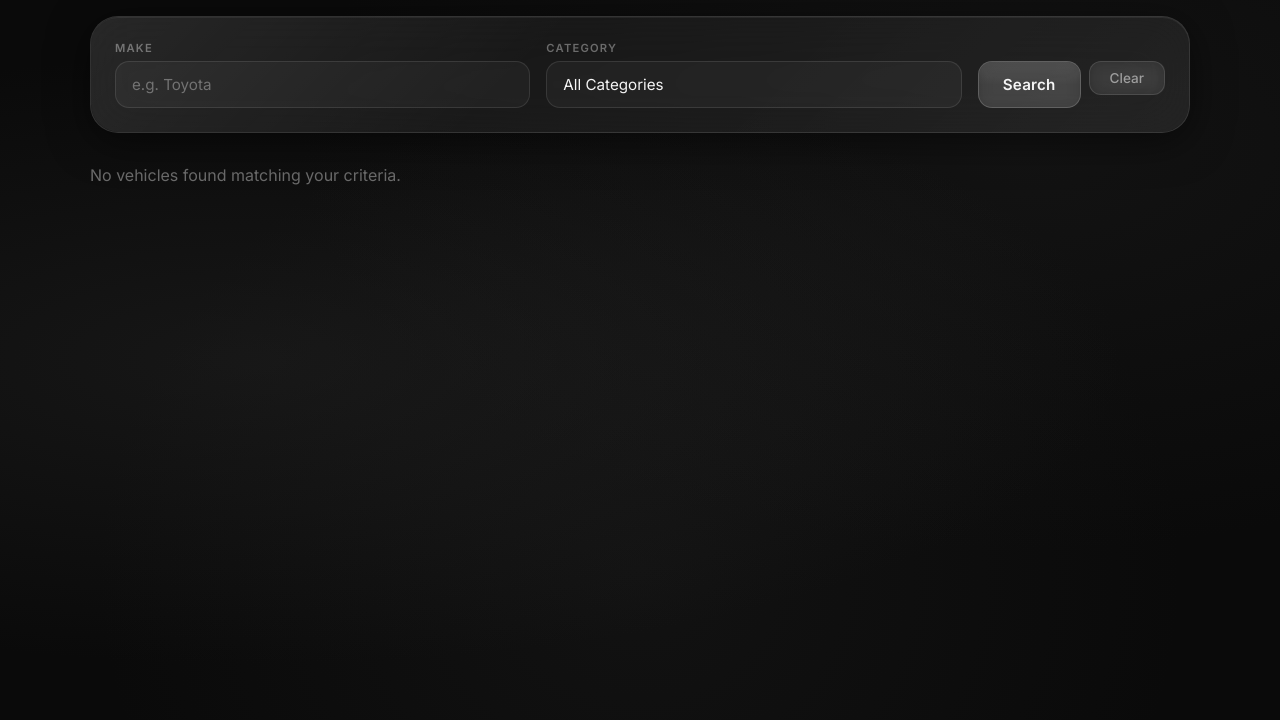
Scenario: DashboardPage › allows clearing the search filters
In the field labelled "Make": (323, 85) [115,61,530,108], type "Ford"
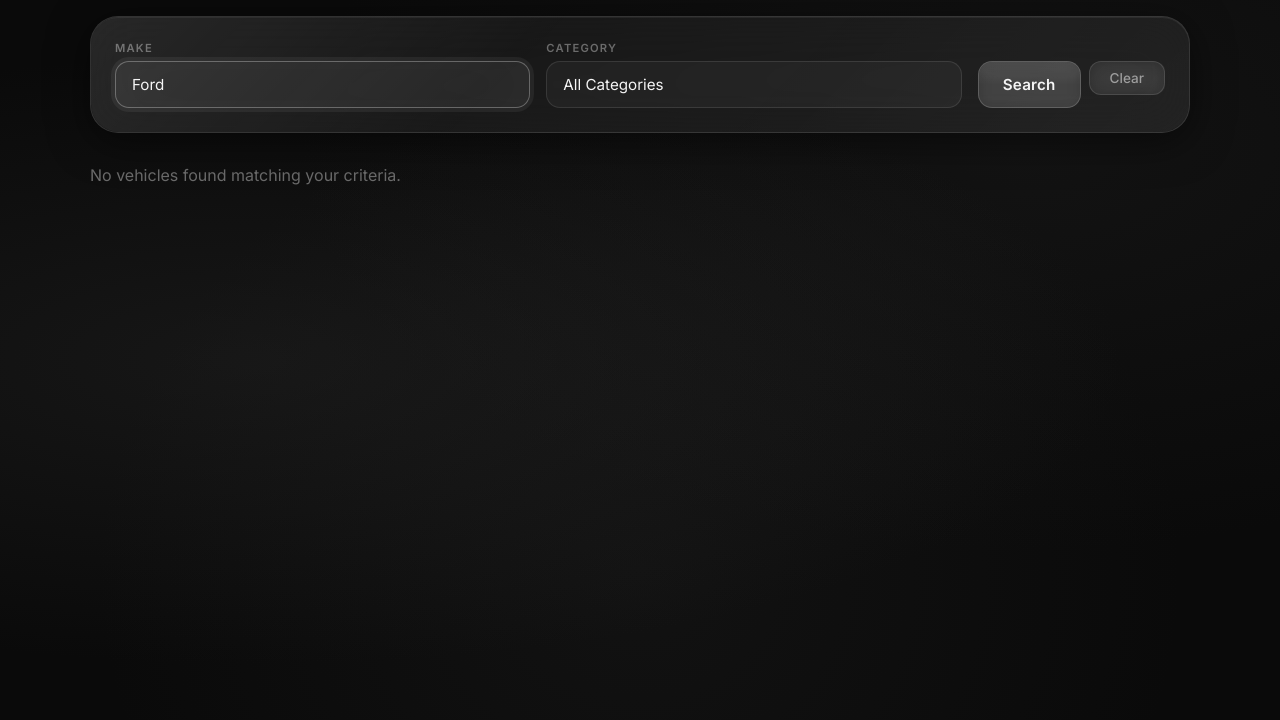
Click the button "Search": (1029, 85) [978,61,1080,108]
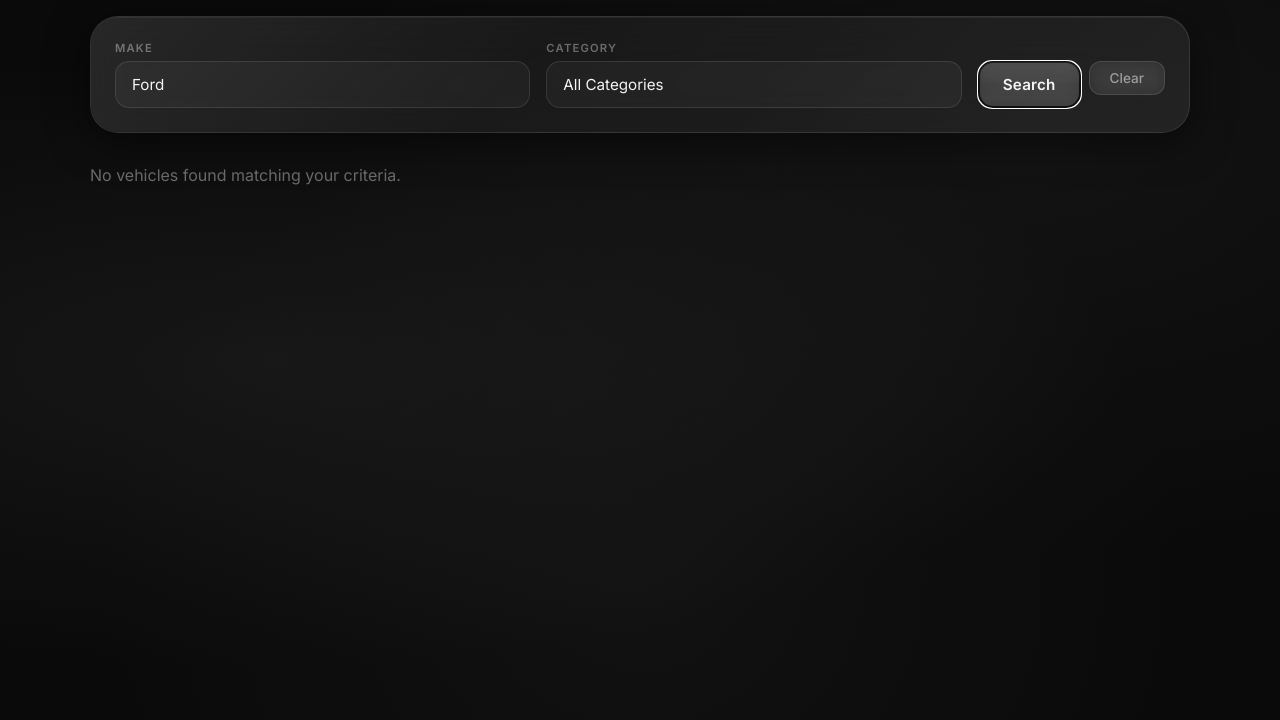
Click the button "Clear": (1127, 78) [1088,61,1165,95]
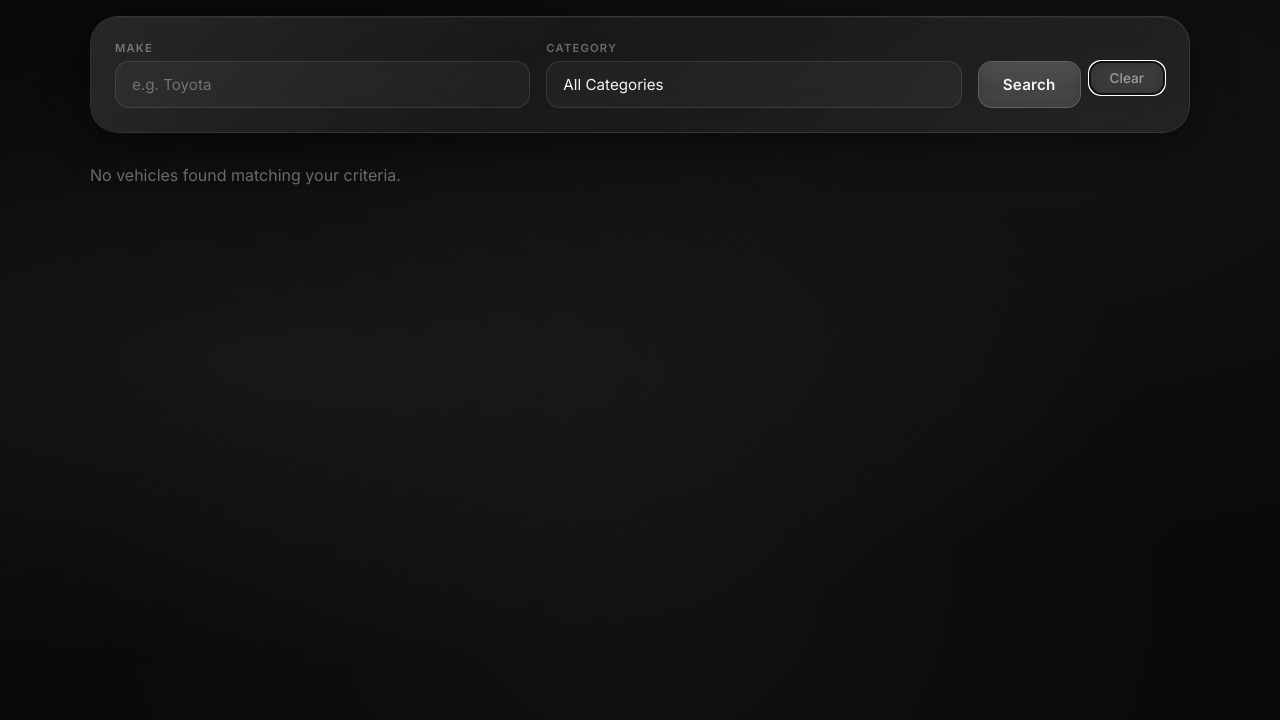
Expected: the field labelled "Make" is empty, [115,61,530,108]
